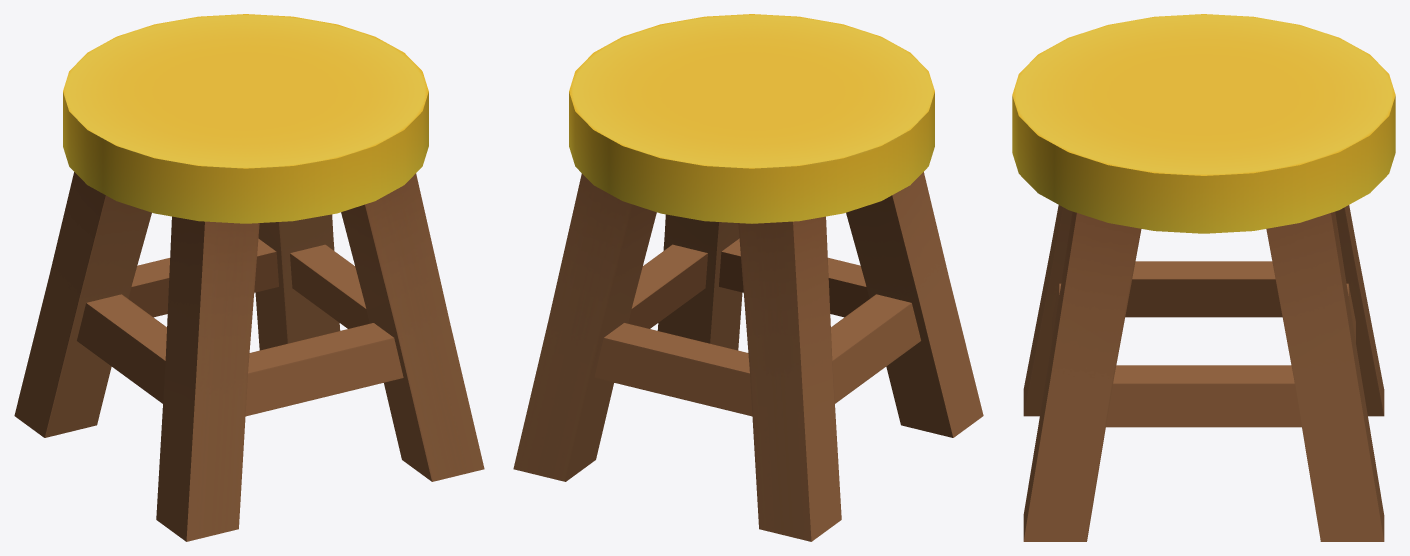
Rendered from ENV2010026.fbx.
3 renders of one model, left to right at view 1: azimuth 30°, elevation 25°; view 2: azimuth 150°, elevation 25°; view 3: azimuth 270°, elevation 25°, orthographic. The views are drawn at different scales.
Visible parts, largest first — view 1: smENV2010026; view 2: smENV2010026; view 3: smENV2010026.
Boxes of the visible parts, box(x1,y1,x2,y2) form: smENV2010026: box(14, 14, 484, 541); smENV2010026: box(513, 14, 983, 541); smENV2010026: box(1012, 14, 1395, 541).
Bounding box in the file's own units: 21.32 × 22.63 × 21.32.
Materials: 1 (1 with a texture image).
